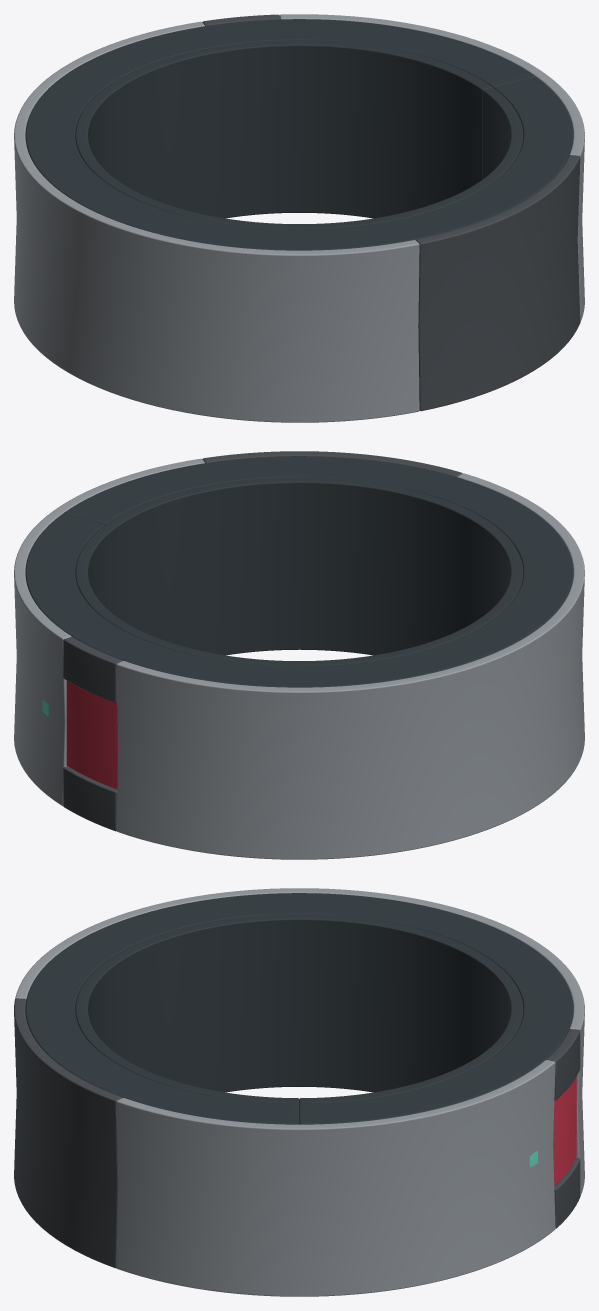
The model's file is s4h-ring.glb.
The picture shows the model from 3 angles, top to bottom: view 1: azimuth 30°, elevation 25°; view 2: azimuth 150°, elevation 25°; view 3: azimuth 270°, elevation 25°; orthographic projection.
Visible parts, largest first — view 1: 01 / titanium shell A, 04 / finger liner, 05 / upper insulating closure, 02 / polymer antenna window, 01 / titanium shell B; view 2: 01 / titanium shell A, 04 / finger liner, 05 / upper insulating closure, 01 / titanium shell B, 03 / recessed trigger membrane, 03 / upper button surround, 03 / lower button surround, 02 / polymer antenna window; view 3: 01 / titanium shell B, 04 / finger liner, 05 / upper insulating closure, 02 / polymer antenna window, 01 / titanium shell A, 03 / recessed trigger membrane, 03 / upper button surround, 03 / lower button surround.
Part boxes in pixels (bbox=[...]): 01 / titanium shell A: bbox=[14, 21, 419, 422]; 04 / finger liner: bbox=[75, 40, 523, 229]; 05 / upper insulating closure: bbox=[25, 19, 573, 250]; 02 / polymer antenna window: bbox=[416, 155, 580, 411]; 01 / titanium shell B: bbox=[279, 14, 584, 322]; 01 / titanium shell A: bbox=[116, 473, 584, 859]; 04 / finger liner: bbox=[75, 477, 523, 666]; 05 / upper insulating closure: bbox=[25, 456, 573, 687]; 01 / titanium shell B: bbox=[14, 458, 204, 806]; 03 / recessed trigger membrane: bbox=[66, 681, 118, 789]; 03 / upper button surround: bbox=[63, 637, 122, 702]; 03 / lower button surround: bbox=[63, 766, 117, 831]; 02 / polymer antenna window: bbox=[202, 451, 462, 476]; 01 / titanium shell B: bbox=[116, 1060, 555, 1296]; 04 / finger liner: bbox=[75, 914, 523, 1104]; 05 / upper insulating closure: bbox=[25, 893, 573, 1124]; 02 / polymer antenna window: bbox=[14, 998, 122, 1268]; 01 / titanium shell A: bbox=[15, 888, 584, 1196]; 03 / recessed trigger membrane: bbox=[553, 1077, 576, 1185]; 03 / upper button surround: bbox=[546, 1029, 580, 1100]; 03 / lower button surround: bbox=[554, 1158, 580, 1228].
Bounding box in the file's own units: 0.0246 × 0.0081 × 0.0246.
